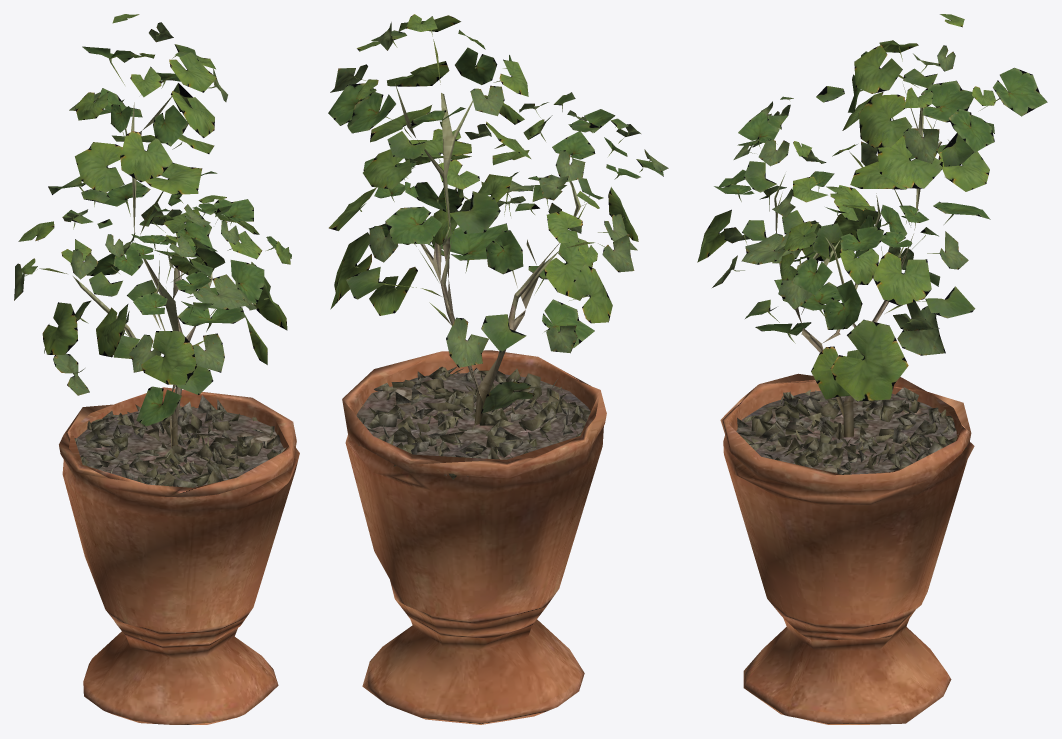
File: potted_plant_01.glb
3 renders of one model, left to right at view 1: azimuth 30°, elevation 25°; view 2: azimuth 150°, elevation 25°; view 3: azimuth 270°, elevation 25°, orthographic. The views are drawn at different scales.
Parts seen in each view (by area): view 1: potted_plant_01_stem, potted_plant_01_leaves; view 2: potted_plant_01_stem, potted_plant_01_leaves; view 3: potted_plant_01_stem, potted_plant_01_leaves.
Boxes of the visible parts, <box> form: potted_plant_01_stem: <box>59,91,299,724</box>; potted_plant_01_leaves: <box>14,14,291,426</box>; potted_plant_01_stem: <box>342,82,606,724</box>; potted_plant_01_leaves: <box>328,14,668,413</box>; potted_plant_01_stem: <box>720,84,974,724</box>; potted_plant_01_leaves: <box>697,14,1047,401</box>.
Size of the model in its own units: 0.587 by 1.33 by 0.6336.
Materials: 2 (2 with a texture image).
